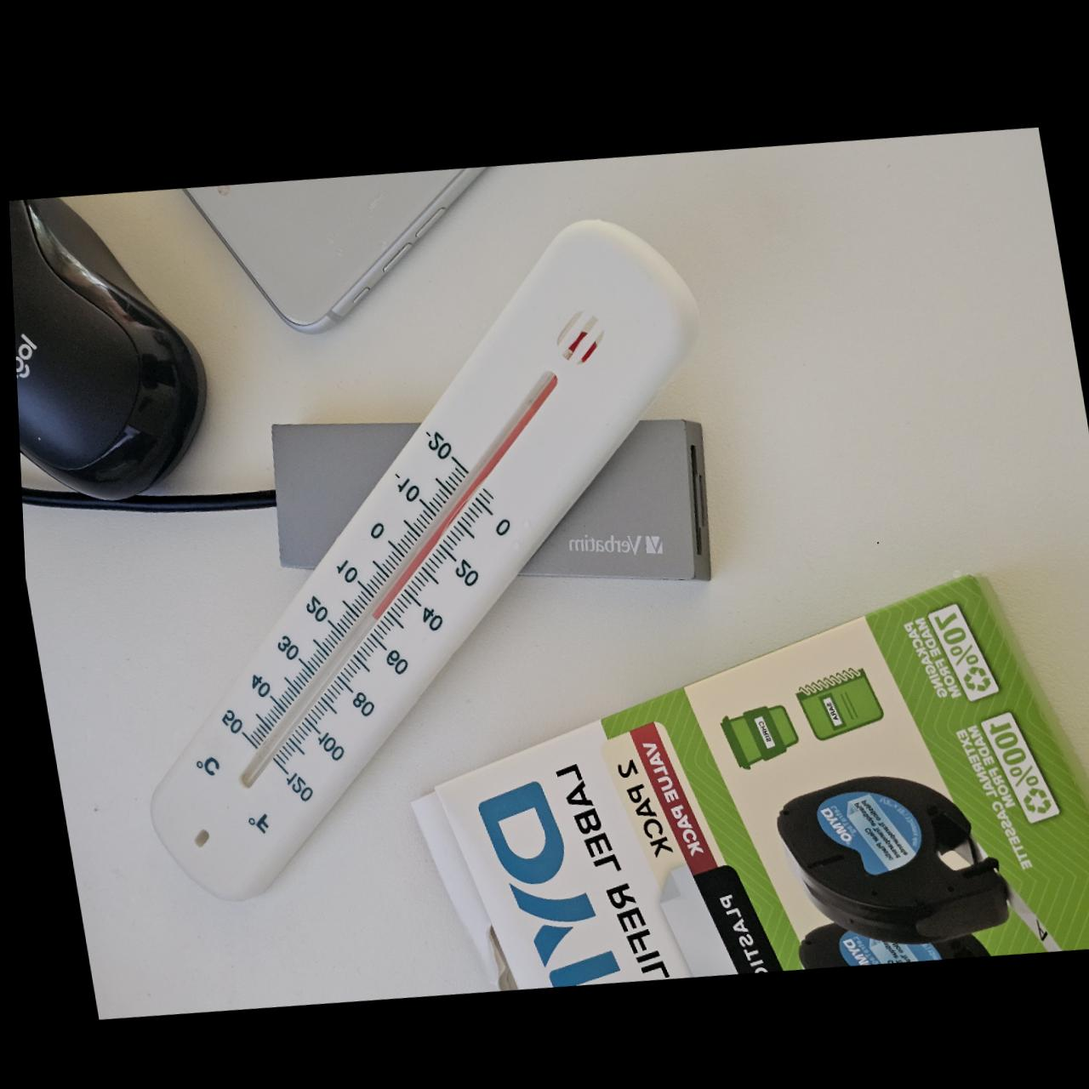thermometer: (50, 178, 794, 942)
